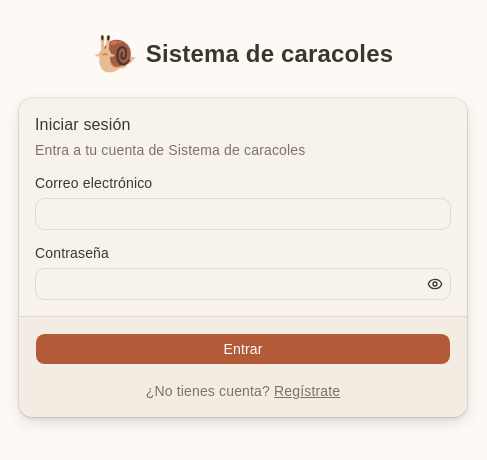
Test case: LoginPage › debe mostrar un error cuando las credenciales son incorrectas
Type "usuario@test.com" into the field labelled "Correo electrónico" at point(243, 214), box top-left (35, 198), bottom-right (451, 230)
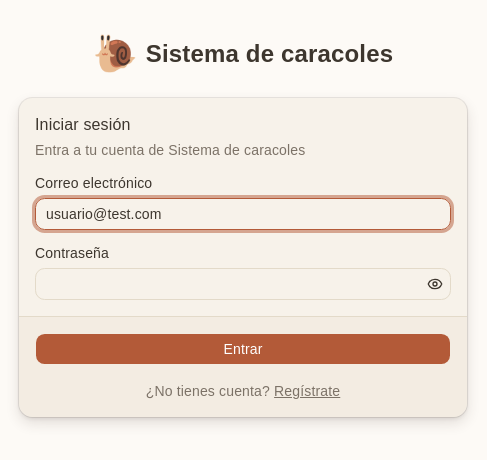
Type "wrongpassword" into the password field labelled "Contraseña" at point(243, 284), box top-left (35, 268), bottom-right (451, 300)
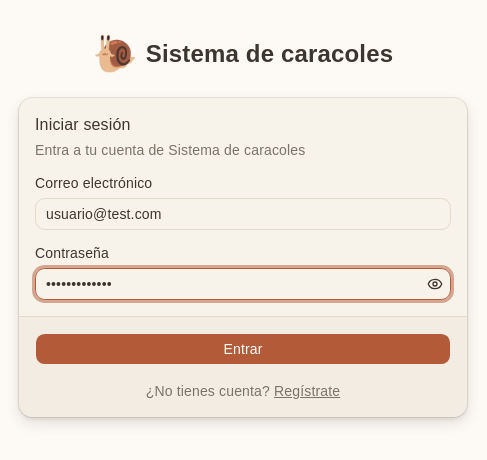
Click the button "Entrar" at point(243, 348), box top-left (35, 332), bottom-right (451, 364)
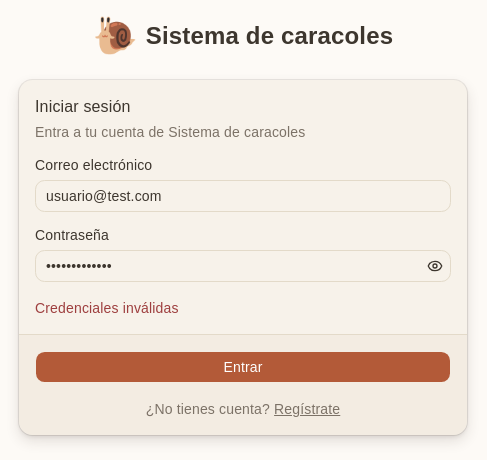
Check: the text "Credenciales inválidas" is shown, box top-left (35, 300), bottom-right (179, 316)
